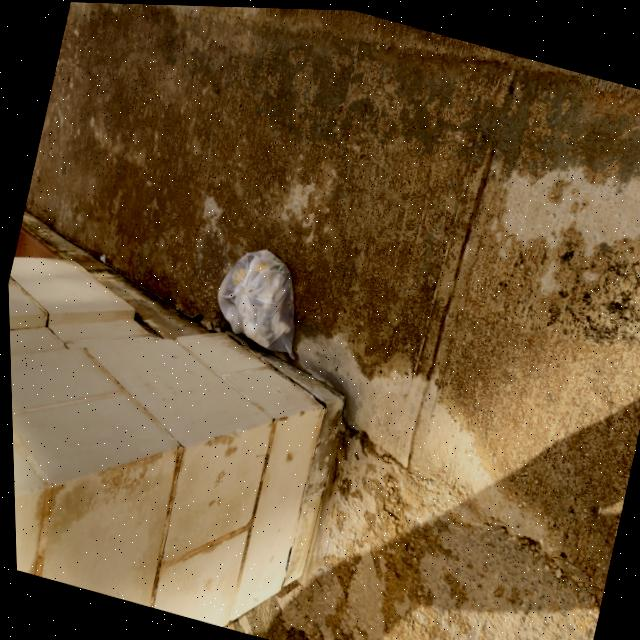Organic Waste -White Bag-: (185, 224, 329, 365)
